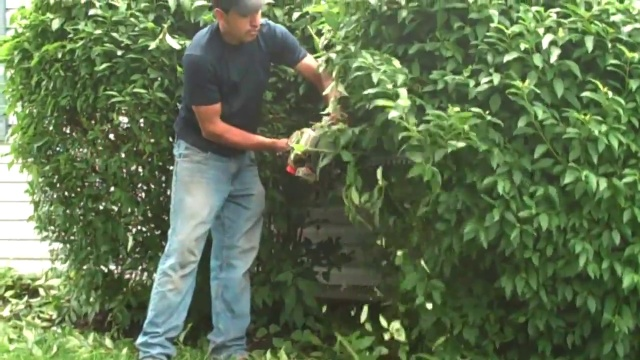person: (135, 0, 329, 360)
